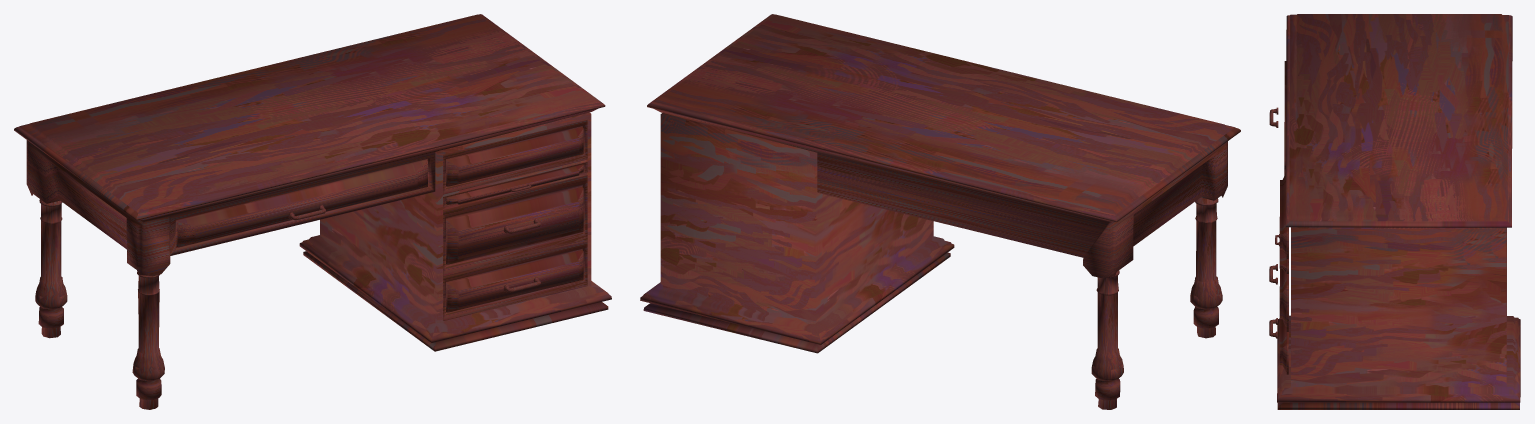
File: dorm desk.glb
The picture shows the model from 3 angles, left to right: view 1: azimuth 30°, elevation 25°; view 2: azimuth 150°, elevation 25°; view 3: azimuth 270°, elevation 25°; orthographic projection. The views are drawn at different scales.
Parts seen in each view (by area): view 1: Cube.056; view 2: Cube.056; view 3: Cube.056.
Part boxes in pixels (x1,y1,x2,y2): Cube.056: (14, 14, 611, 409); Cube.056: (640, 14, 1240, 409); Cube.056: (1269, 14, 1520, 409).
Size of the model in its own units: 1.86 by 0.7872 by 0.9384.
Materials: 1 (1 with a texture image).
